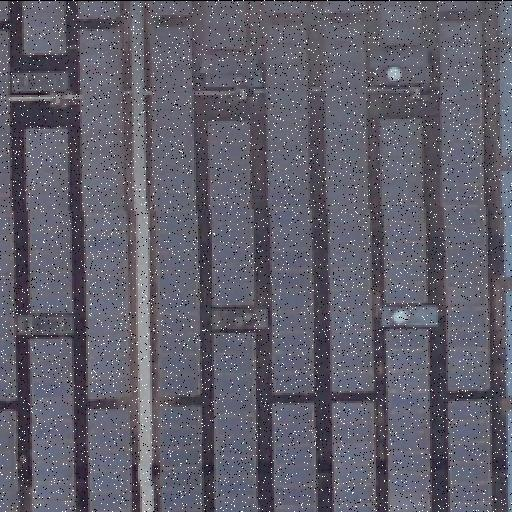solar-panel: (438, 20, 494, 392), (78, 28, 130, 400), (152, 27, 204, 397), (323, 21, 373, 395), (267, 23, 317, 393), (23, 126, 73, 314), (379, 119, 429, 305), (208, 120, 256, 304), (385, 328, 431, 512), (29, 336, 75, 512), (214, 332, 258, 512), (0, 31, 16, 401), (447, 400, 497, 512), (331, 400, 381, 512), (273, 401, 319, 511), (85, 408, 131, 512), (160, 408, 204, 512), (21, 0, 67, 56), (204, 0, 248, 48), (0, 408, 20, 512), (379, 1, 421, 47), (79, 0, 121, 20), (150, 0, 194, 16), (322, 1, 366, 15), (264, 1, 308, 15), (437, 0, 483, 12), (0, 1, 8, 23)
